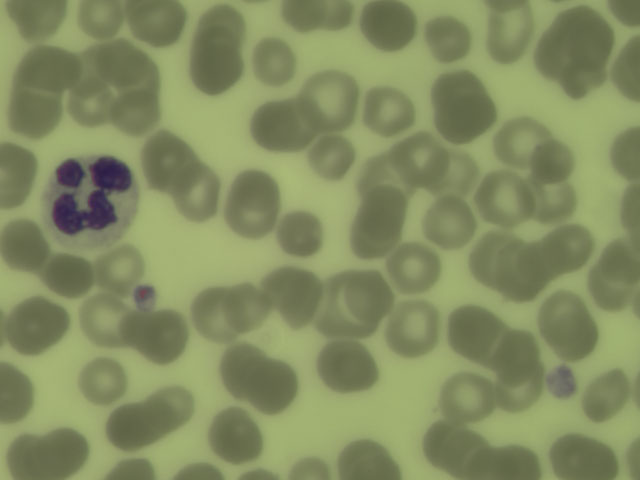Platelets: (546, 362, 580, 401), (134, 283, 157, 313)
RBC: (532, 289, 599, 360), (6, 297, 70, 359), (535, 36, 601, 93), (316, 341, 380, 399), (300, 72, 358, 130), (253, 102, 317, 153), (259, 268, 315, 326), (250, 356, 302, 416), (230, 168, 277, 233), (340, 270, 397, 323), (550, 433, 613, 480), (337, 437, 405, 480), (42, 425, 96, 479), (360, 1, 416, 53), (465, 229, 516, 285), (213, 405, 263, 462), (144, 134, 192, 193), (192, 43, 246, 95), (472, 440, 542, 480), (562, 9, 614, 62), (44, 252, 95, 306), (115, 78, 164, 134), (386, 245, 443, 293), (76, 357, 129, 408), (438, 372, 489, 425), (585, 264, 640, 313), (356, 153, 413, 200), (132, 1, 188, 48), (395, 135, 449, 183), (495, 117, 550, 164), (499, 244, 542, 304), (586, 368, 632, 424), (435, 98, 496, 140), (478, 177, 530, 226), (389, 305, 438, 357), (22, 48, 79, 92), (189, 289, 238, 340), (5, 89, 57, 137), (424, 151, 478, 197), (75, 300, 130, 345), (1, 221, 49, 272), (135, 316, 186, 364), (424, 200, 475, 248), (363, 87, 412, 136), (252, 37, 299, 88), (543, 224, 595, 270), (181, 166, 224, 221), (486, 7, 529, 62), (86, 46, 145, 86), (493, 365, 543, 412), (9, 1, 69, 40), (220, 343, 265, 395), (303, 140, 357, 183), (318, 275, 358, 333), (424, 18, 476, 62), (527, 183, 585, 222), (224, 282, 271, 330), (446, 305, 493, 353), (347, 219, 402, 260), (69, 81, 115, 129), (97, 249, 143, 296), (1, 145, 35, 208), (430, 75, 492, 109), (354, 192, 408, 230), (493, 331, 538, 376), (421, 424, 468, 467), (146, 391, 195, 432), (198, 6, 248, 46), (528, 140, 578, 180), (6, 433, 48, 480), (608, 122, 640, 183), (1, 364, 34, 423), (281, 215, 327, 257), (613, 36, 640, 105), (601, 237, 640, 283), (113, 407, 154, 448), (78, 1, 123, 37), (168, 453, 226, 480), (284, 451, 331, 480), (284, 2, 324, 32), (105, 460, 159, 480), (322, 1, 352, 31)
WBC: (43, 151, 139, 248)
